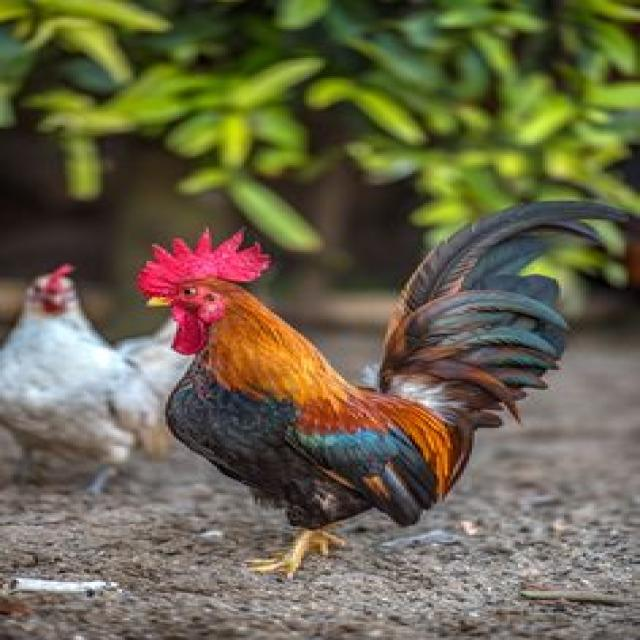Herbivorous: (136, 210, 567, 577), (0, 265, 184, 471)
